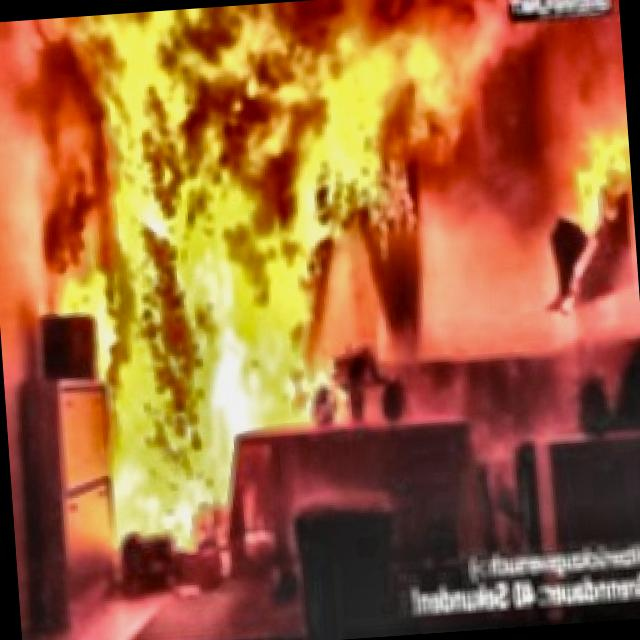fire: (0, 0, 639, 426)
